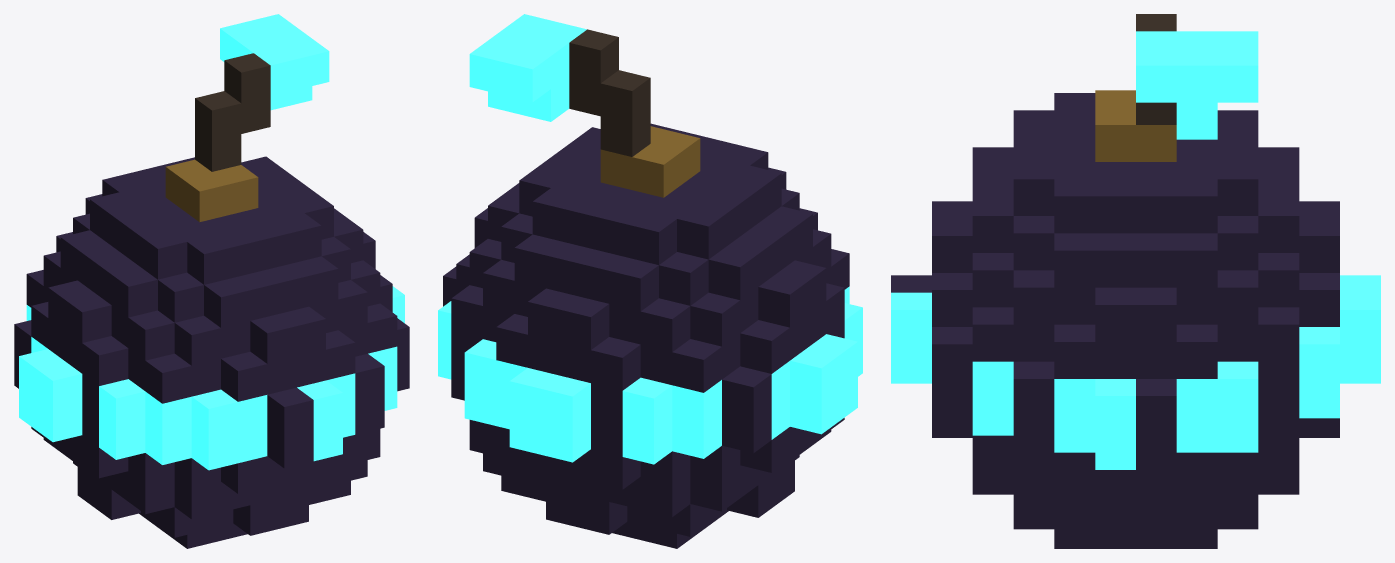
Rendered from item_ARCANE_BOMB.glb.
3 views of the same model, side by side, from view 1: azimuth 30°, elevation 25°; view 2: azimuth 150°, elevation 25°; view 3: azimuth 270°, elevation 25° (orthographic). The views are drawn at different scales.
Visible parts, largest first — view 1: item_ARCANE_BOMB; view 2: item_ARCANE_BOMB; view 3: item_ARCANE_BOMB.
Part boxes in pixels (x1=…): item_ARCANE_BOMB: x1=14, y1=14, x2=409, y2=548; item_ARCANE_BOMB: x1=438, y1=14, x2=862, y2=548; item_ARCANE_BOMB: x1=891, y1=14, x2=1380, y2=548.
Size of the model in its own units: 0.2727 by 0.3182 by 0.2727.
Materials: 1 (1 with a texture image).
